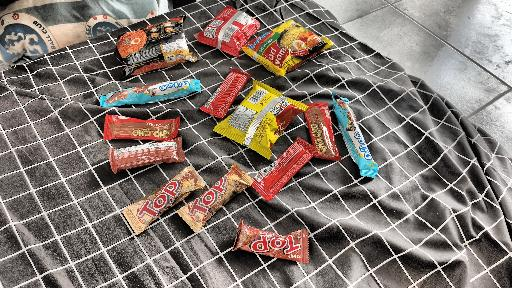chocho: (242, 139, 322, 203), (300, 101, 342, 164), (100, 111, 183, 141), (201, 68, 249, 117)
dilan: (328, 97, 381, 178), (96, 81, 207, 111)
indomie: (236, 23, 335, 74)
mie sedap: (113, 12, 196, 77)
momotaro: (217, 77, 304, 155), (195, 4, 260, 54)
top: (117, 169, 204, 231), (180, 162, 252, 229), (227, 217, 309, 267), (105, 146, 187, 170)
